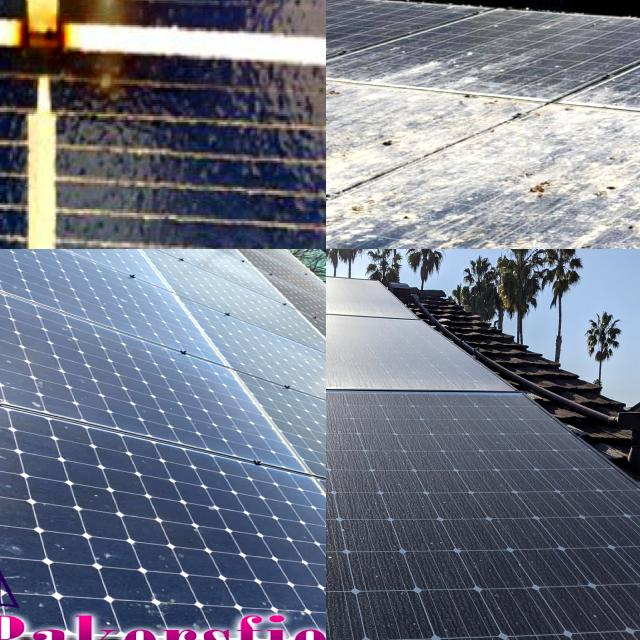bird: (488, 139, 584, 229), (326, 91, 412, 189), (371, 94, 466, 182), (607, 207, 640, 249)
dust: (467, 509, 640, 640), (326, 505, 449, 640), (194, 336, 308, 415), (326, 404, 437, 482), (461, 398, 537, 504), (326, 455, 377, 578), (326, 464, 372, 578), (326, 394, 426, 445)
shadow: (0, 0, 146, 120)
